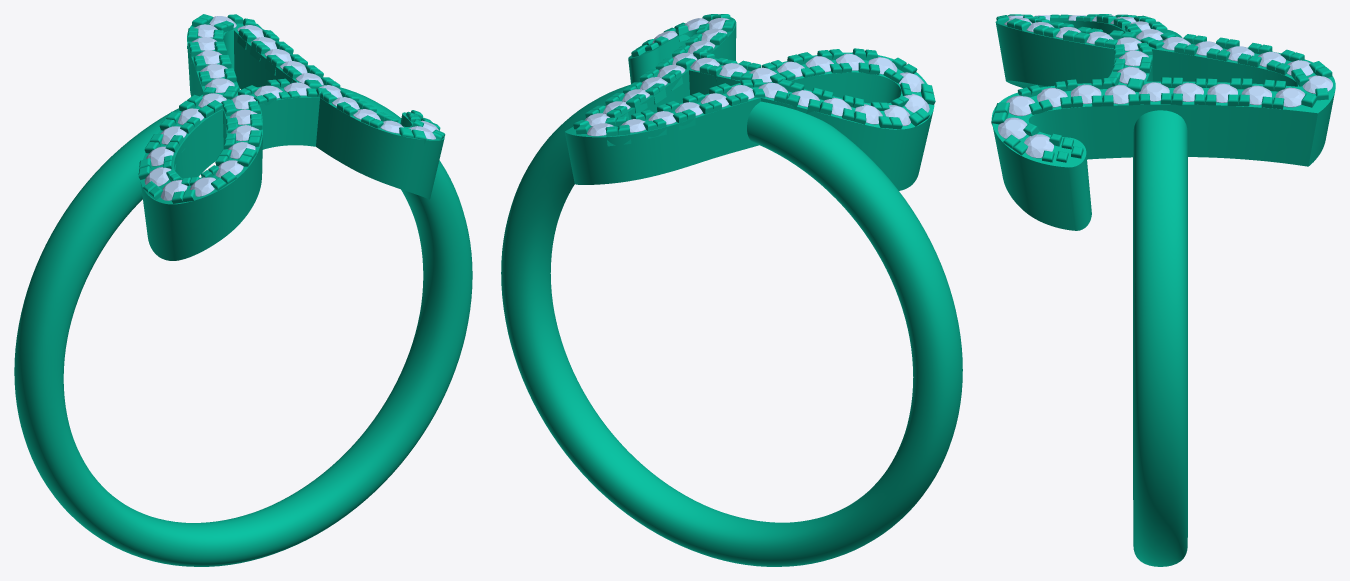
The picture shows the model from 3 angles, left to right: view 1: azimuth 30°, elevation 25°; view 2: azimuth 150°, elevation 25°; view 3: azimuth 270°, elevation 25°; orthographic projection. The views are drawn at different scales.
Visible parts, largest first — view 1: A LETTER RING(front).3dm; view 2: A LETTER RING(front).3dm; view 3: A LETTER RING(front).3dm, Diamond_Round (×3).
Part boxes in pixels (x1,y1,x2,y2): A LETTER RING(front).3dm: (14,14,472,566); A LETTER RING(front).3dm: (501,14,962,566); A LETTER RING(front).3dm: (991,14,1335,566); Diamond_Round (×3): (998,95,1053,158).
Size of the model in its own units: 2.56 by 2.6 by 1.64.
